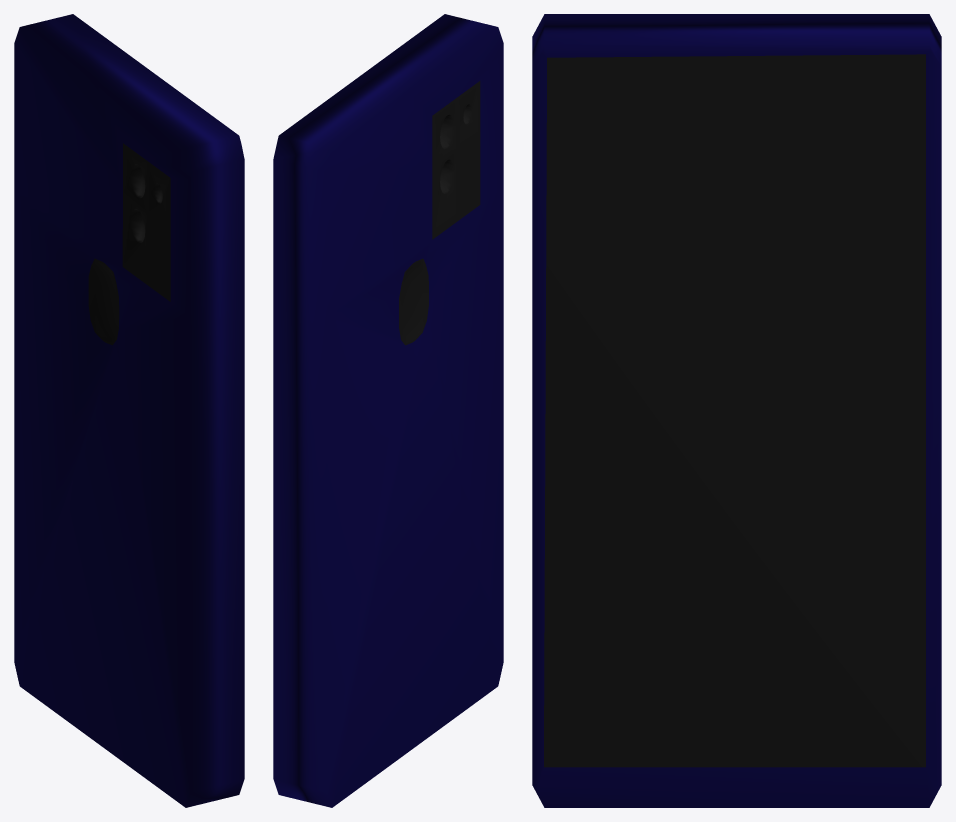
The model's file is celular.fbx.
The picture shows the model from 3 angles, left to right: view 1: azimuth 30°, elevation 25°; view 2: azimuth 150°, elevation 25°; view 3: azimuth 270°, elevation 25°; orthographic projection. The views are drawn at different scales.
Visible parts, largest first — view 1: Cube; view 2: Cube; view 3: Cube.
Boxes of the visible parts, left/top/right/bottom form: Cube: left=14, top=14, right=244, bottom=807; Cube: left=273, top=14, right=503, bottom=807; Cube: left=532, top=14, right=941, bottom=807.
Bounding box in the file's own units: 24.69 × 282 × 137.
